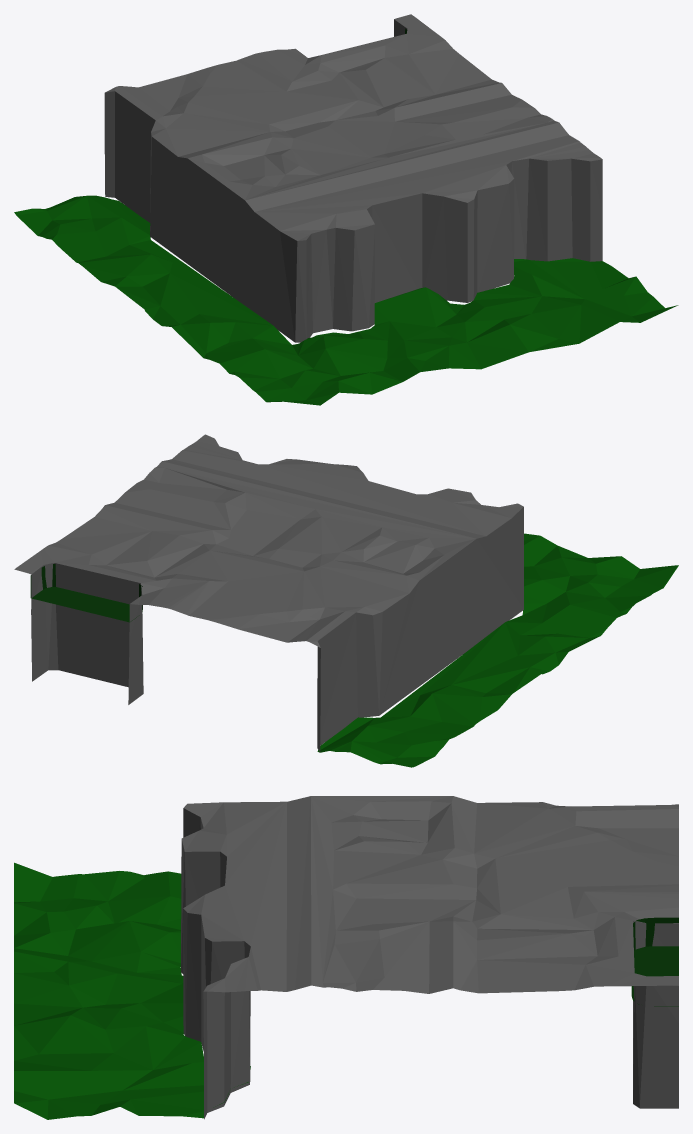
File: newshj-43.glb
3 views of the same model, one above another, from view 1: azimuth 30°, elevation 25°; view 2: azimuth 150°, elevation 25°; view 3: azimuth 270°, elevation 25° (orthographic). The views are drawn at different scales.
Parts seen in each view (by area): view 1: newshj-43; view 2: newshj-43; view 3: newshj-43.
Part boxes in pixels (x1=…): newshj-43: x1=14, y1=14, x2=678, y2=405; newshj-43: x1=14, y1=434, x2=678, y2=767; newshj-43: x1=14, y1=796, x2=678, y2=1119.
Bounding box in the file's own units: 2 × 0.5379 × 2.33.
